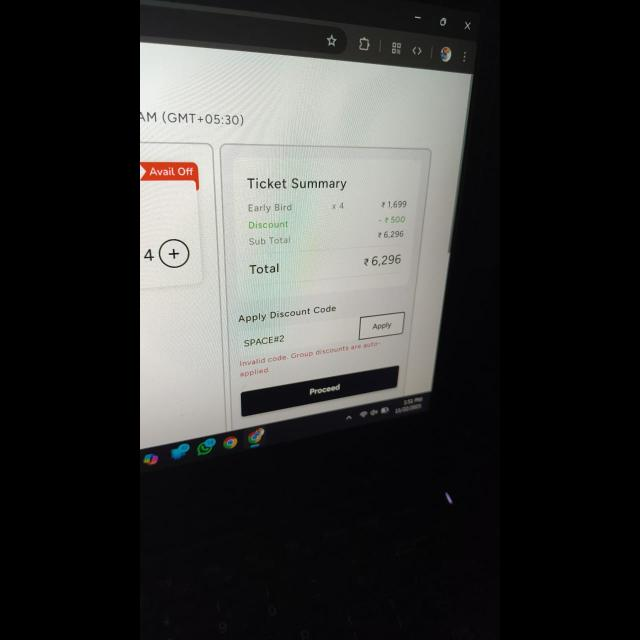laptop: (140, 8, 486, 640)
